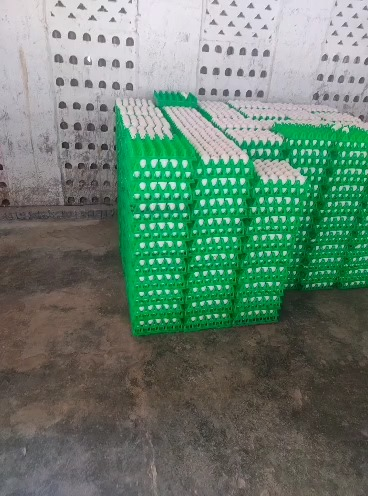egg_tray: (193, 137, 251, 165), (126, 135, 196, 156), (252, 158, 310, 183), (225, 129, 281, 145), (134, 265, 185, 282), (120, 114, 173, 129), (169, 115, 218, 131), (152, 91, 198, 108), (271, 125, 333, 137), (125, 125, 178, 139), (182, 128, 228, 143), (131, 169, 193, 180), (131, 191, 191, 202), (133, 158, 192, 169), (194, 165, 253, 176), (322, 126, 367, 140), (195, 178, 250, 189), (132, 181, 192, 191), (190, 226, 244, 237), (132, 212, 191, 222), (131, 202, 190, 212), (215, 118, 263, 130), (132, 231, 189, 241), (233, 315, 280, 327), (133, 324, 184, 335), (188, 252, 239, 263), (133, 240, 189, 250), (132, 256, 186, 266), (191, 207, 245, 217), (186, 260, 239, 270), (190, 236, 243, 246), (247, 205, 300, 215), (252, 187, 305, 197), (286, 137, 334, 148), (185, 320, 232, 331), (203, 107, 246, 119), (240, 108, 286, 119), (132, 249, 188, 258), (133, 222, 189, 231), (133, 317, 183, 327), (116, 106, 166, 116), (184, 305, 233, 315), (186, 291, 235, 301), (185, 268, 239, 277), (136, 288, 184, 298), (184, 312, 232, 322), (242, 147, 282, 159), (191, 217, 244, 226), (318, 112, 365, 122), (189, 244, 240, 253), (244, 225, 295, 234), (183, 299, 233, 308), (242, 242, 291, 251), (195, 189, 250, 197), (187, 283, 235, 292), (244, 233, 292, 242), (162, 108, 205, 118), (192, 198, 245, 206), (236, 274, 287, 282), (234, 309, 279, 318), (234, 302, 279, 311), (133, 310, 183, 318), (134, 282, 184, 290), (185, 277, 235, 285), (299, 103, 339, 113), (114, 98, 158, 107), (236, 288, 285, 296), (237, 281, 286, 289), (248, 216, 297, 224), (311, 222, 354, 231), (234, 296, 281, 304), (241, 266, 288, 274), (323, 198, 360, 208), (228, 99, 269, 108), (243, 250, 289, 258), (291, 158, 331, 167), (256, 119, 296, 128), (250, 197, 301, 204), (290, 149, 334, 157), (319, 207, 358, 216), (135, 296, 185, 303), (319, 214, 356, 223), (135, 303, 182, 310), (321, 192, 362, 200), (302, 275, 338, 284), (323, 184, 363, 192), (335, 139, 367, 149), (295, 115, 322, 126), (304, 269, 341, 277), (284, 109, 313, 119), (331, 158, 367, 166), (309, 237, 350, 244), (302, 282, 337, 290), (307, 249, 347, 256), (200, 100, 231, 109), (242, 259, 288, 265), (308, 243, 347, 250), (331, 167, 364, 175), (272, 102, 303, 110), (296, 167, 330, 174), (306, 256, 345, 262), (312, 230, 351, 236), (305, 263, 343, 269), (342, 280, 367, 289), (327, 176, 363, 182), (337, 150, 367, 157), (346, 250, 367, 257), (343, 267, 367, 273), (285, 281, 300, 290), (341, 274, 367, 279), (346, 257, 367, 263), (349, 242, 367, 249), (344, 262, 367, 267), (293, 229, 308, 236), (352, 236, 367, 243), (298, 216, 312, 223), (309, 175, 323, 182), (301, 207, 314, 214), (307, 184, 320, 191), (292, 237, 306, 243), (297, 223, 311, 229), (301, 200, 315, 206), (287, 264, 300, 270), (306, 192, 319, 198), (354, 224, 367, 230), (292, 244, 303, 251), (289, 251, 301, 257), (353, 230, 367, 235), (288, 270, 299, 276), (289, 257, 300, 263), (287, 276, 300, 281)
